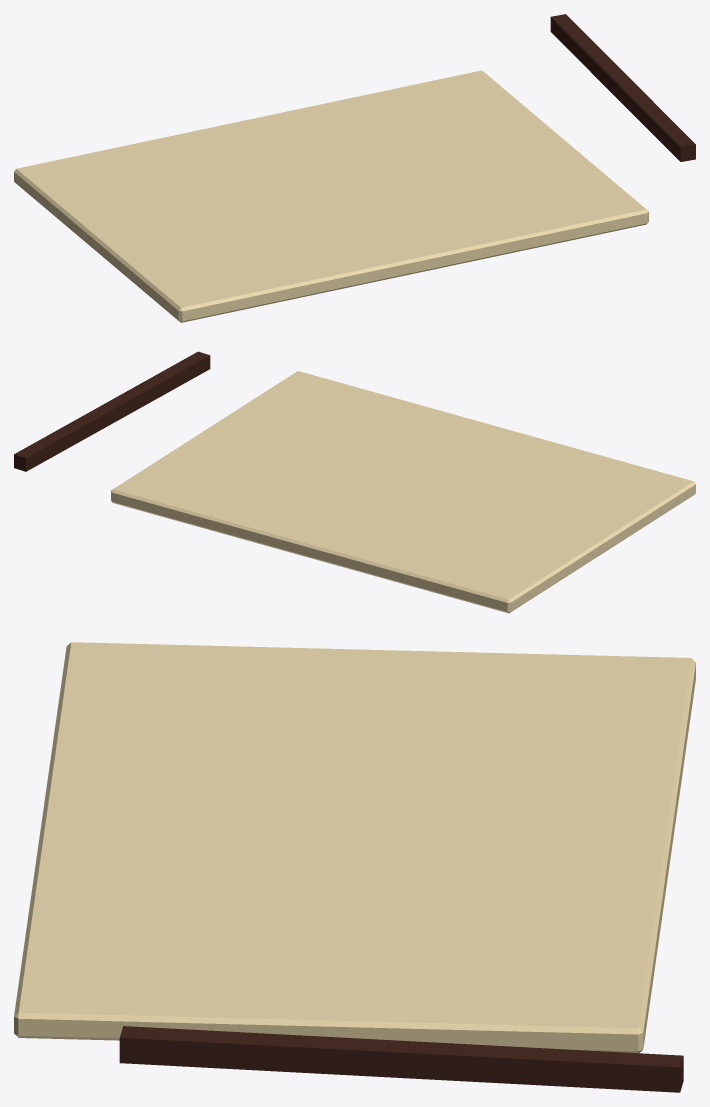
Rendered from residential_accessories_06.glb.
3 renders of one model, top to bottom at view 1: azimuth 30°, elevation 25°; view 2: azimuth 150°, elevation 25°; view 3: azimuth 270°, elevation 25°, orthographic. The views are drawn at different scales.
Visible parts, largest first — view 1: Paper, Pen; view 2: Paper, Pen; view 3: Paper, Pen.
Part boxes in pixels (x1,y1,x2,y2): Paper: (14,70,648,322); Pen: (550,14,695,161); Paper: (111,371,695,613); Pen: (14,351,210,471); Paper: (14,642,695,1053); Pen: (119,1026,683,1092).
Bounding box in the file's own units: 0.4736 × 0.031 × 0.2921.
